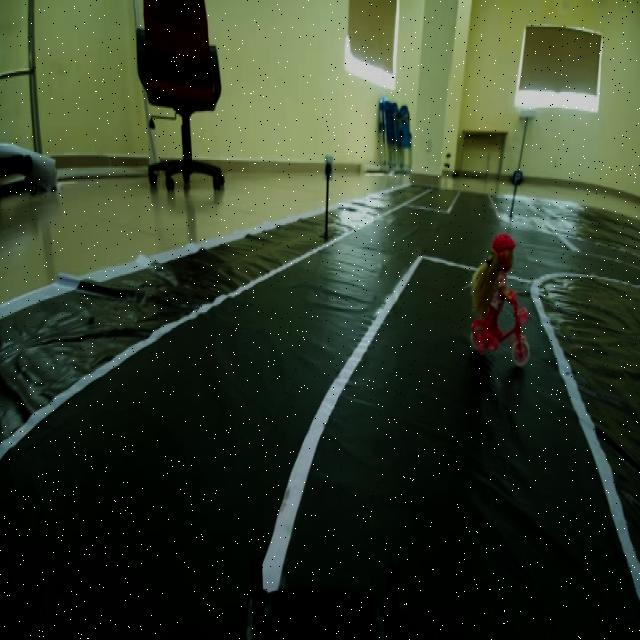pedestrian: (478, 235, 534, 365)
